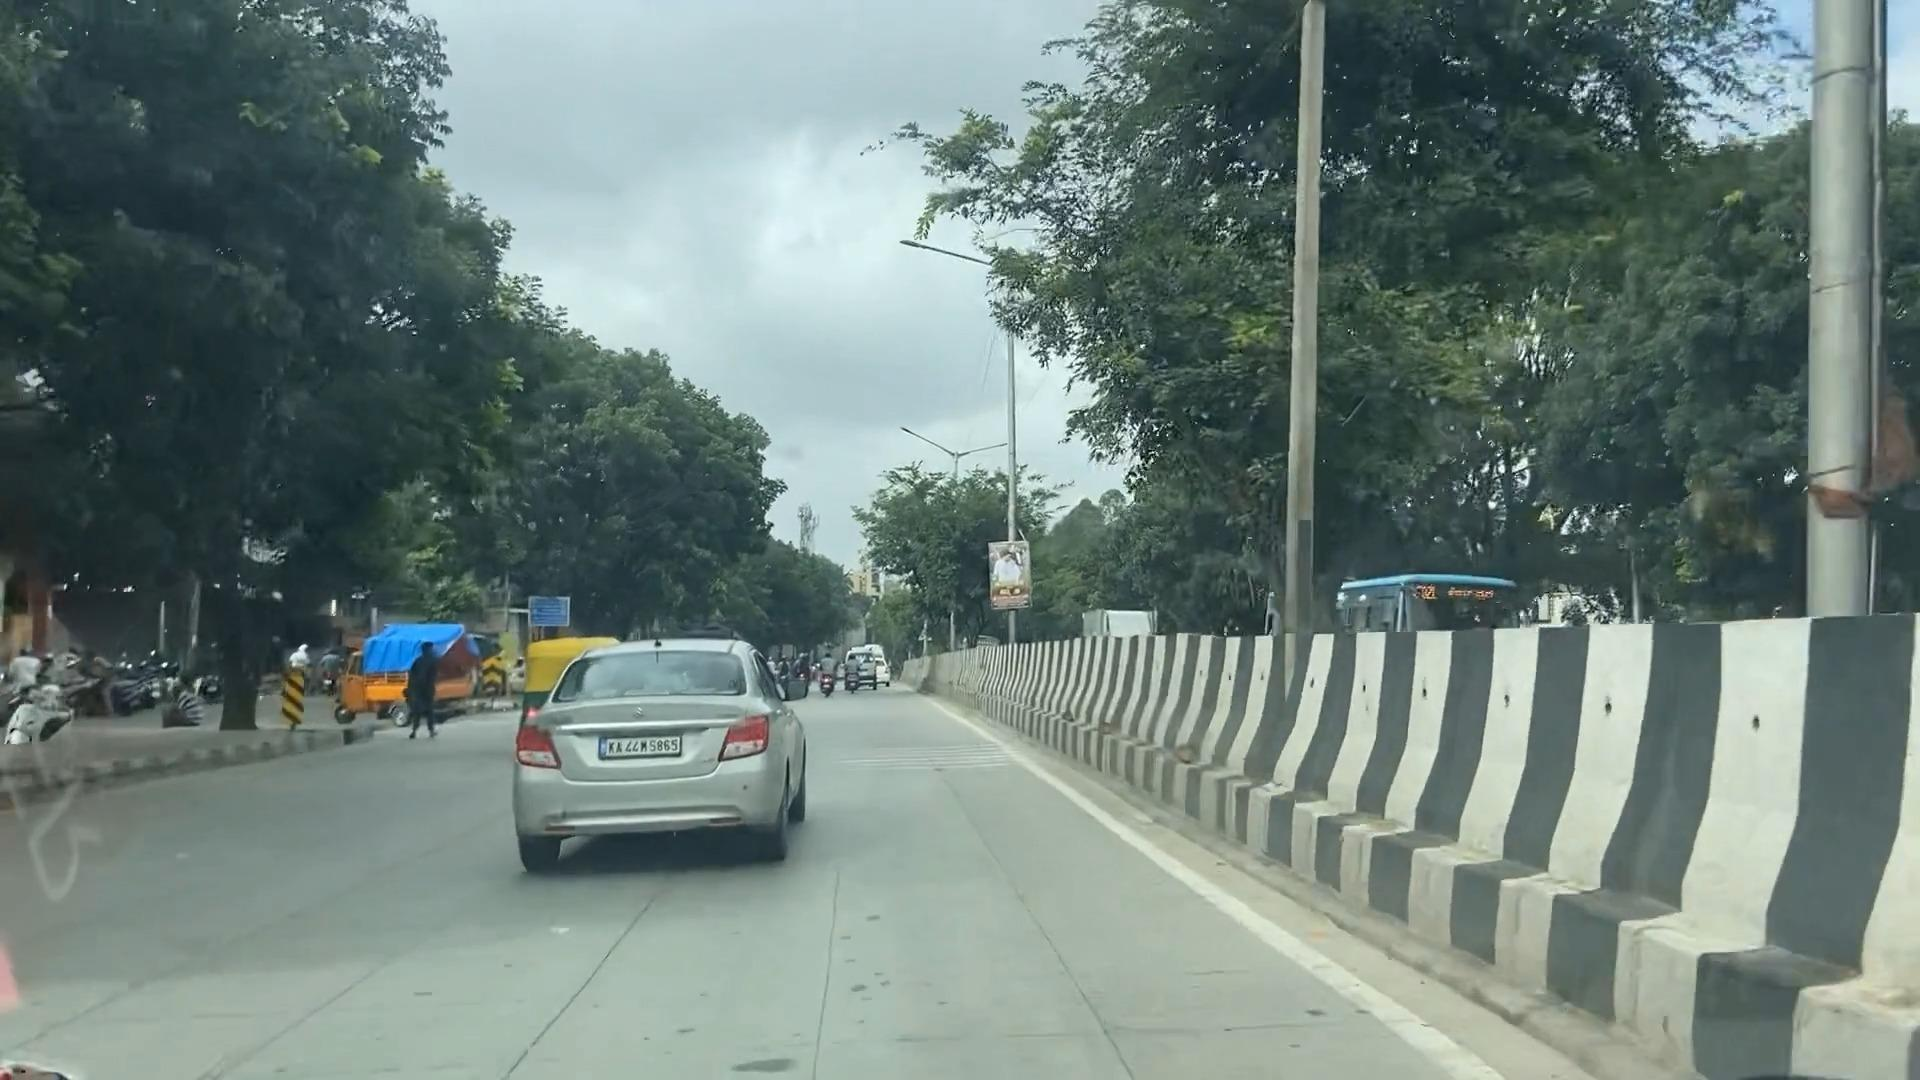LMV: (516, 621, 811, 873)
